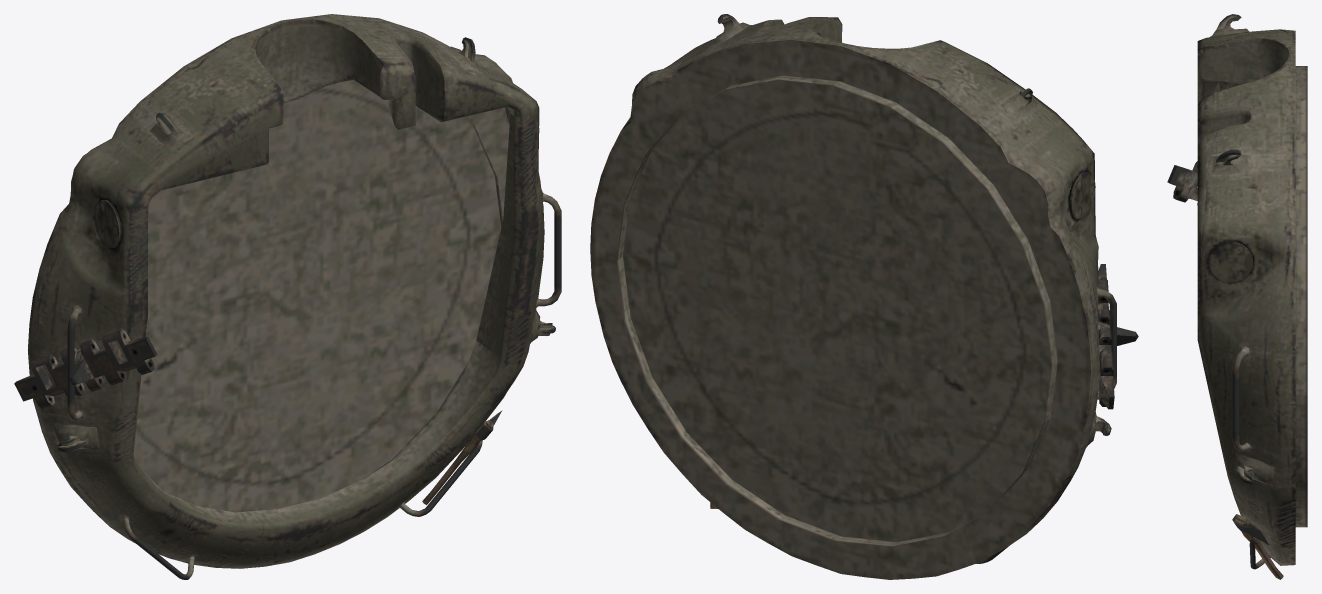
Rendered from Turret_01.glb.
3 renders of one model, left to right at view 1: azimuth 30°, elevation 25°; view 2: azimuth 150°, elevation 25°; view 3: azimuth 270°, elevation 25°, orthographic. The views are drawn at different scales.
Parts seen in each view (by area): view 1: set_0_group_0; view 2: set_0_group_0; view 3: set_0_group_0.
Boxes of the visible parts, x1,y1,x2,y2 form: set_0_group_0: [14, 14, 561, 579]; set_0_group_0: [590, 14, 1138, 579]; set_0_group_0: [1167, 14, 1307, 579].
Bounding box in the file's own units: 2.61 × 2.54 × 0.6604.
Materials: 1 (1 with a texture image).
